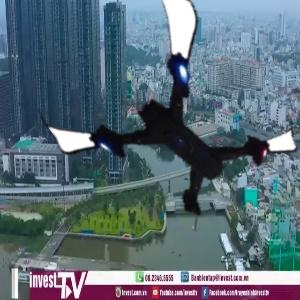drone: (51, 12, 274, 235)
